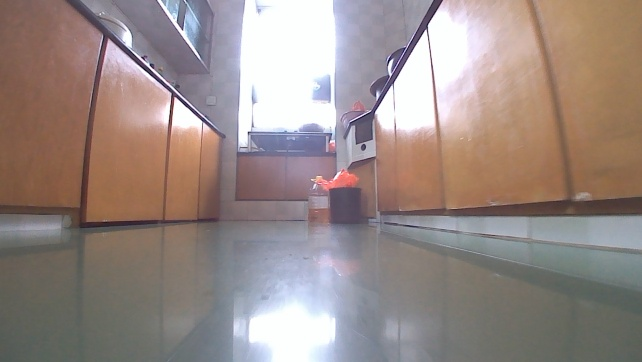cupboard: (343, 0, 641, 251), (0, 0, 227, 227), (235, 139, 336, 222)
